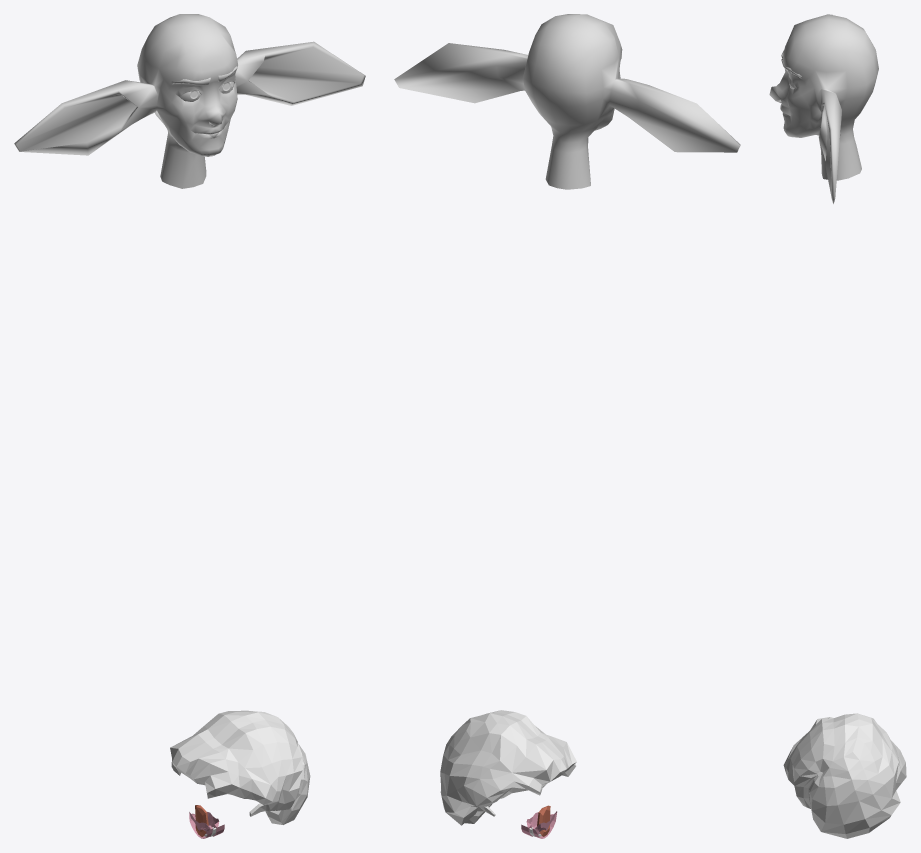
File: ron_lod80.fbx
The picture shows the model from 3 angles, left to right: view 1: azimuth 30°, elevation 25°; view 2: azimuth 150°, elevation 25°; view 3: azimuth 270°, elevation 25°; orthographic projection. The views are drawn at different scales.
Parts seen in each view (by area): view 1: head, hair; view 2: head, hair; view 3: head, hair.
Boxes of the visible parts, x1,y1,x2,y2 form: head: [14, 14, 365, 188]; hair: [170, 710, 310, 824]; head: [394, 14, 740, 189]; hair: [440, 710, 576, 825]; head: [769, 14, 878, 203]; hair: [783, 713, 906, 838].
Bounding box in the file's own units: 81.38 × 185 × 29.52.
